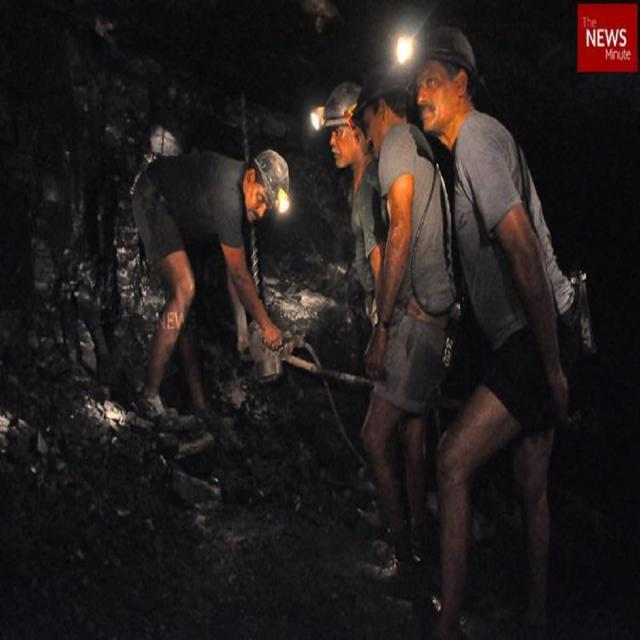person: (407, 8, 570, 640), (352, 59, 455, 590), (107, 132, 290, 424), (310, 72, 380, 298)
safety_helmet: (421, 18, 486, 72), (254, 138, 300, 205), (358, 54, 406, 112), (322, 77, 356, 125)
